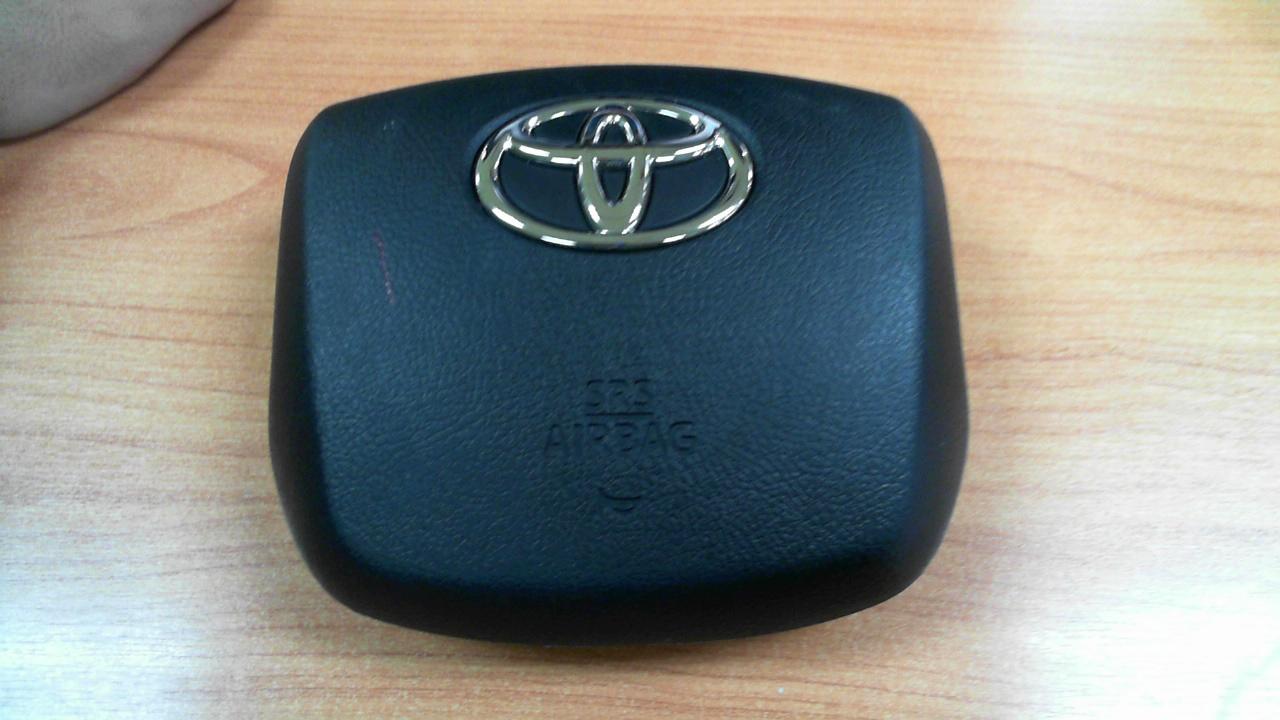Airbag: (267, 63, 970, 648)
Toyota: (475, 96, 754, 250)
